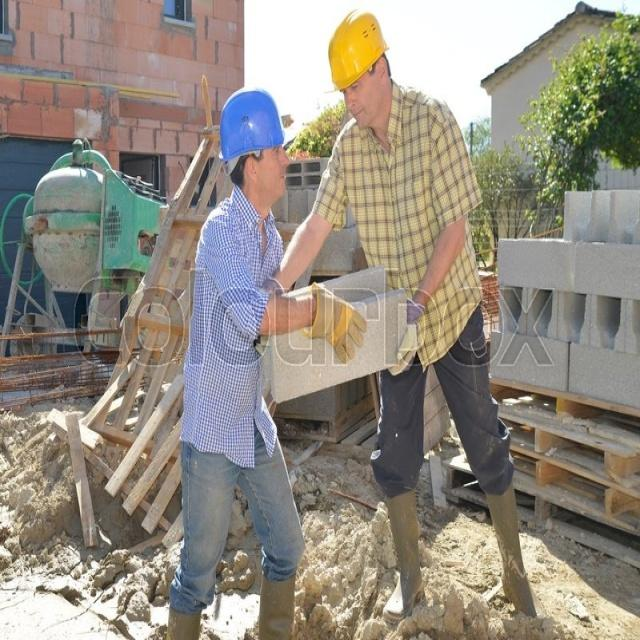helmet: (219, 119, 289, 276), (328, 10, 391, 166)
